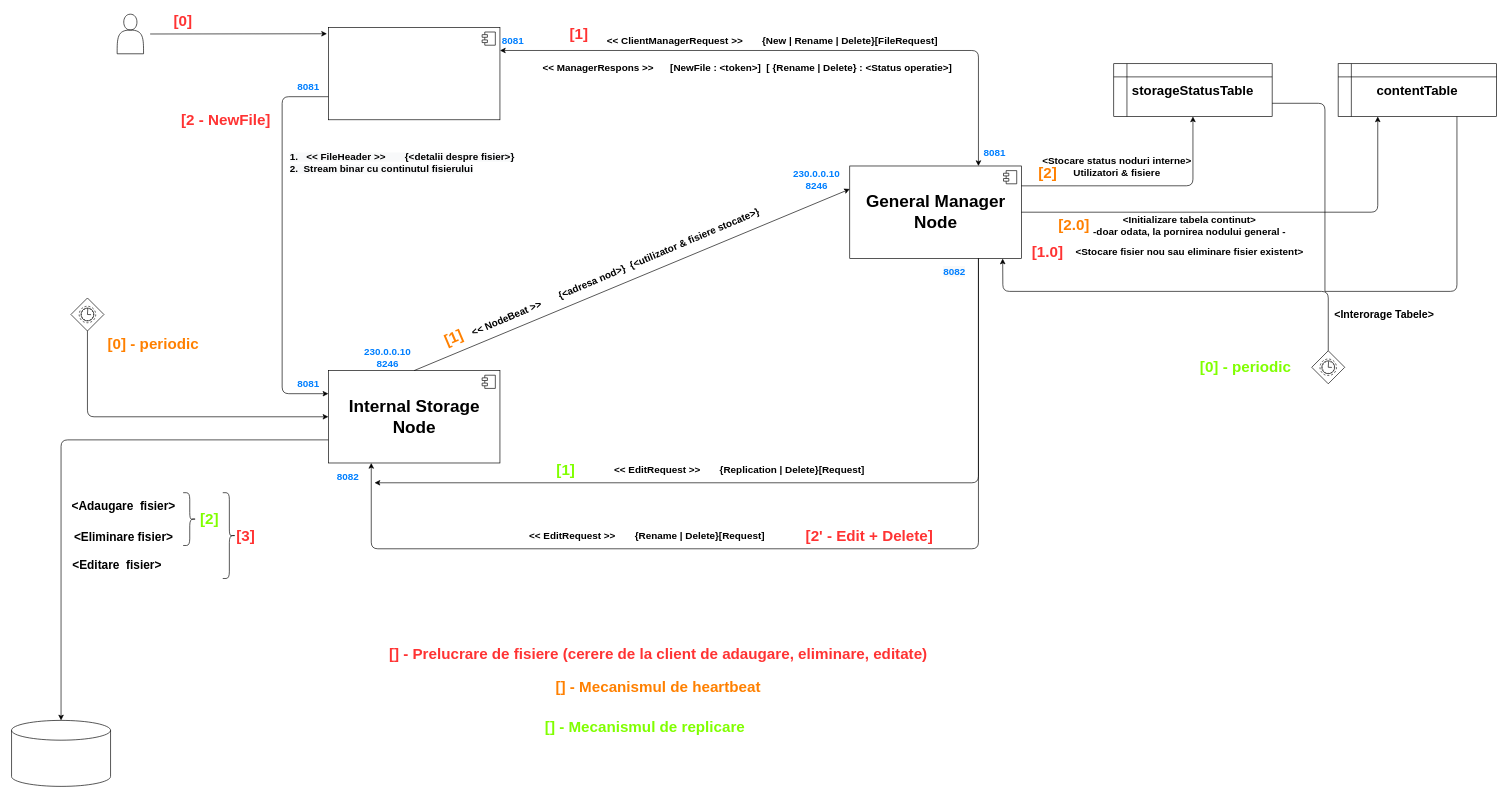
Some shapes in this 1508 by 798 pixel diagram are drawn without their labels. The shapes that lost their labels are listed below. From the top down, each one's box as (x1, y1, x2, y2) in pixels, then its label:
(328, 27, 500, 120): Frontend
(11, 720, 111, 786): Storage
